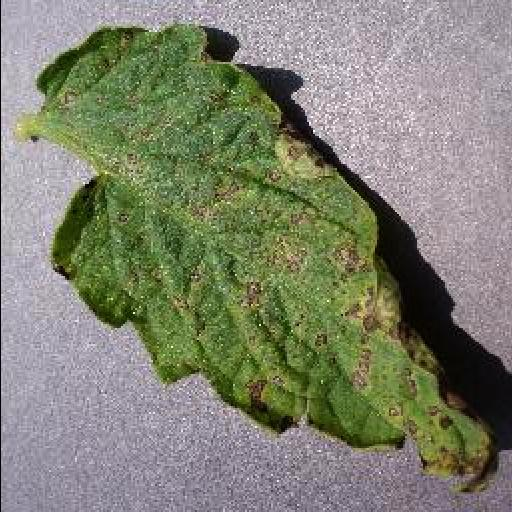disease_tomato: (36, 23, 500, 495)
